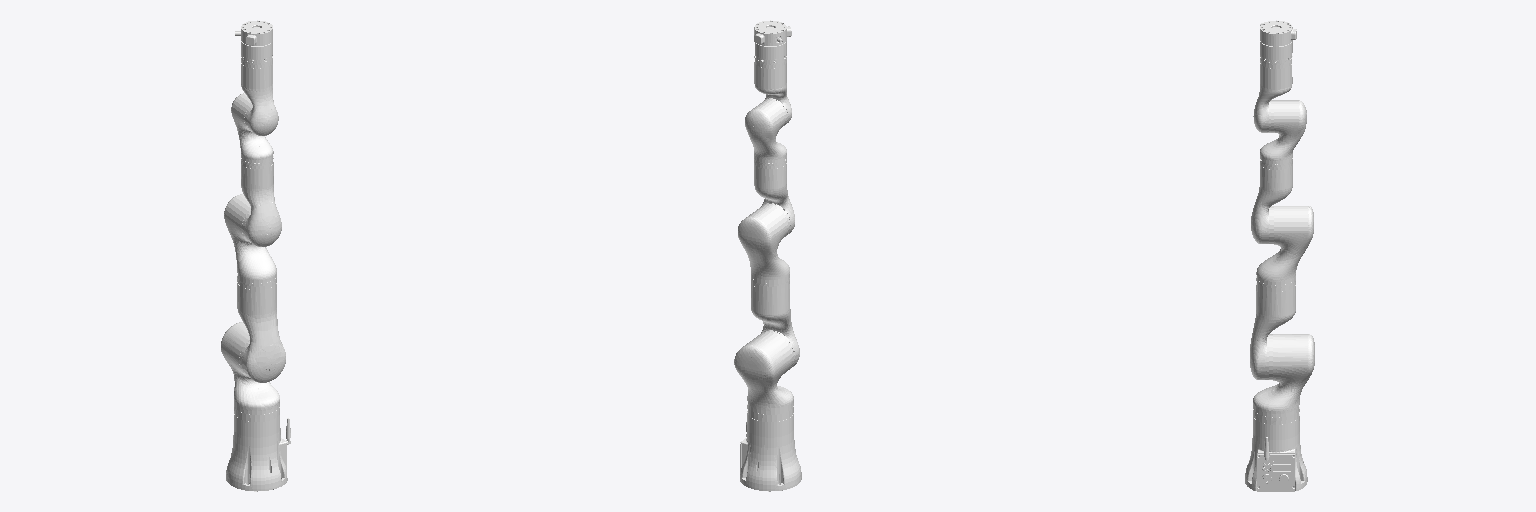
The robot description file, URDF, robot "rm_65_6f_description":
<?xml version="1.0" encoding="utf-8"?>
<!-- This URDF was automatically created by SolidWorks to URDF Exporter! Originally created by Stephen Brawner (brawner@gmail.com) 
     Commit Version: 1.6.0-1-g15f4949  Build Version: 1.6.7594.29634
     For more information, please see http://wiki.ros.org/sw_urdf_exporter -->
<robot
  name="rm_65_6f_description">
  <link
    name="base_link">
    <inertial>
      <origin
        xyz="-0.00043295 -3.5277E-05 0.059942"
        rpy="0 0 0" />
      <mass
        value="0.84105" />
      <inertia
        ixx="0.0017261"
        ixy="2.5273E-06"
        ixz="-3.6769E-05"
        iyy="0.0017099"
        iyz="1.6802E-06"
        izz="0.00090402" />
    </inertial>
    <visual>
      <origin
        xyz="0 0 0"
        rpy="0 0 0" />
      <geometry>
        <mesh
          filename="package://rm_description/meshes/RM65_6F/base_link.STL" />
      </geometry>
      <material
        name="">
        <color
          rgba="1 1 1 1" />
      </material>
    </visual>
    <collision>
      <origin
        xyz="0 0 0"
        rpy="0 0 0" />
      <geometry>
        <mesh
          filename="package://rm_description/meshes/RM65_6F/base_link.STL" />
      </geometry>
    </collision>
  </link>
  <link
    name="Link1">
    <inertial>
      <origin
        xyz="2.1376E-07 0.021108 -0.025186"
        rpy="0 0 0" />
      <mass
        value="0.59356" />
      <inertia
        ixx="0.0012661"
        ixy="-1.2951E-08"
        ixz="-9.8019E-09"
        iyy="0.0011817"
        iyz="-0.00021122"
        izz="0.00056135" />
    </inertial>
    <visual>
      <origin
        xyz="0 0 0"
        rpy="0 0 0" />
      <geometry>
        <mesh
          filename="package://rm_description/meshes/RM65_6F/Link1.STL" />
      </geometry>
      <material
        name="">
        <color
          rgba="1 1 1 1" />
      </material>
    </visual>
    <collision>
      <origin
        xyz="0 0 0"
        rpy="0 0 0" />
      <geometry>
        <mesh
          filename="package://rm_description/meshes/RM65_6F/Link1.STL" />
      </geometry>
    </collision>
  </link>
  <joint
    name="joint1"
    type="revolute">
    <origin
      xyz="0 0 0.2405"
      rpy="0 0 0" />
    <parent
      link="base_link" />
    <child
      link="Link1" />
    <axis
      xyz="0 0 1" />
    <limit
      lower="-3.107"
      upper="3.107"
      effort="100"
      velocity="1" />
  </joint>
  <link
    name="Link2">
    <inertial>
      <origin
        xyz="0.15226 6.0139E-07 -0.0062025"
        rpy="0 0 0" />
      <mass
        value="0.86418" />
      <inertia
        ixx="0.00063254"
        ixy="-5.979E-09"
        ixz="0.00042163"
        iyy="0.0020527"
        iyz="1.8401E-09"
        izz="0.0019528" />
    </inertial>
    <visual>
      <origin
        xyz="0 0 0"
        rpy="0 0 0" />
      <geometry>
        <mesh
          filename="package://rm_description/meshes/RM65_6F/Link2.STL" />
      </geometry>
      <material
        name="">
        <color
          rgba="1 1 1 1" />
      </material>
    </visual>
    <collision>
      <origin
        xyz="0 0 0"
        rpy="0 0 0" />
      <geometry>
        <mesh
          filename="package://rm_description/meshes/RM65_6F/Link2.STL" />
      </geometry>
    </collision>
  </link>
  <joint
    name="joint2"
    type="revolute">
    <origin
      xyz="0 0 0"
      rpy="1.5708 -1.5708 0" />
    <parent
      link="Link1" />
    <child
      link="Link2" />
    <axis
      xyz="0 0 1" />
    <limit
      lower="-2.269"
      upper="2.269"
      effort="100"
      velocity="1" />
  </joint>
  <link
    name="Link3">
    <inertial>
      <origin
        xyz="5.0421E-06 -0.059593 0.010569"
        rpy="0 0 0" />
      <mass
        value="0.28963" />
      <inertia
        ixx="0.00063737"
        ixy="-7.0522E-08"
        ixz="-3.8666E-08"
        iyy="0.00015648"
        iyz="-0.00014461"
        izz="0.00061418" />
    </inertial>
    <visual>
      <origin
        xyz="0 0 0"
        rpy="0 0 0" />
      <geometry>
        <mesh
          filename="package://rm_description/meshes/RM65_6F/Link3.STL" />
      </geometry>
      <material
        name="">
        <color
          rgba="1 1 1 1" />
      </material>
    </visual>
    <collision>
      <origin
        xyz="0 0 0"
        rpy="0 0 0" />
      <geometry>
        <mesh
          filename="package://rm_description/meshes/RM65_6F/Link3.STL" />
      </geometry>
    </collision>
  </link>
  <joint
    name="joint3"
    type="revolute">
    <origin
      xyz="0.256 0 0"
      rpy="0 0 1.5708" />
    <parent
      link="Link2" />
    <child
      link="Link3" />
    <axis
      xyz="0 0 1" />
    <limit
      lower="-2.356"
      upper="2.356"
      effort="100"
      velocity="1" />
  </joint>
  <link
    name="Link4">
    <inertial>
      <origin
        xyz="1.1466E-06 -0.018041 -0.021541"
        rpy="0 0 0" />
      <mass
        value="0.23941" />
      <inertia
        ixx="0.00028594"
        ixy="2.6611E-09"
        ixz="-1.8435E-09"
        iyy="0.00026273"
        iyz="4.4238E-05"
        izz="0.00011989" />
    </inertial>
    <visual>
      <origin
        xyz="0 0 0"
        rpy="0 0 0" />
      <geometry>
        <mesh
          filename="package://rm_description/meshes/RM65_6F/Link4.STL" />
      </geometry>
      <material
        name="">
        <color
          rgba="1 1 1 1" />
      </material>
    </visual>
    <collision>
      <origin
        xyz="0 0 0"
        rpy="0 0 0" />
      <geometry>
        <mesh
          filename="package://rm_description/meshes/RM65_6F/Link4.STL" />
      </geometry>
    </collision>
  </link>
  <joint
    name="joint4"
    type="revolute">
    <origin
      xyz="0 -0.21 0"
      rpy="1.5708 0 0" />
    <parent
      link="Link3" />
    <child
      link="Link4" />
    <axis
      xyz="0 0 1" />
    <limit
      lower="-3.107"
      upper="3.107"
      effort="100"
      velocity="1" />
  </joint>
  <link
    name="Link5">
    <inertial>
      <origin
        xyz="3.4542E-06 -0.059382 0.0073678"
        rpy="0 0 0" />
      <mass
        value="0.21879" />
      <inertia
        ixx="0.00035053"
        ixy="-3.1667E-08"
        ixz="-1.7442E-08"
        iyy="0.00010492"
        iyz="-7.824E-05"
        izz="0.00033447" />
    </inertial>
    <visual>
      <origin
        xyz="0 0 0"
        rpy="0 0 0" />
      <geometry>
        <mesh
          filename="package://rm_description/meshes/RM65_6F/Link5.STL" />
      </geometry>
      <material
        name="">
        <color
          rgba="1 1 1 1" />
      </material>
    </visual>
    <collision>
      <origin
        xyz="0 0 0"
        rpy="0 0 0" />
      <geometry>
        <mesh
          filename="package://rm_description/meshes/RM65_6F/Link5.STL" />
      </geometry>
    </collision>
  </link>
  <joint
    name="joint5"
    type="revolute">
    <origin
      xyz="0 0 0"
      rpy="-1.5708 0 0" />
    <parent
      link="Link4" />
    <child
      link="Link5" />
    <axis
      xyz="0 0 1" />
    <limit
      lower="-2.234"
      upper="2.234"
      effort="100"
      velocity="1" />
  </joint>
  <link
    name="Link6">
    <inertial>
      <origin
        xyz="0.00032231 -0.00017819 -0.028676"
        rpy="0 0 0" />
      <mass
        value="0.14433" />
      <inertia
        ixx="3.6119E-05"
        ixy="-1.3242E-06"
        ixz="-3.2733E-08"
        iyy="3.4626E-05"
        iyz="7.6661E-09"
        izz="6.1463E-05" />
    </inertial>
    <visual>
      <origin
        xyz="0 0 0"
        rpy="0 0 0" />
      <geometry>
        <mesh
          filename="package://rm_description/meshes/RM65_6F/Link6.STL" />
      </geometry>
      <material
        name="">
        <color
          rgba="1 1 1 1" />
      </material>
    </visual>
    <collision>
      <origin
        xyz="0 0 0"
        rpy="0 0 0" />
      <geometry>
        <mesh
          filename="package://rm_description/meshes/RM65_6F/Link6.STL" />
      </geometry>
    </collision>
  </link>
  <joint
    name="joint6"
    type="revolute">
    <origin
      xyz="0 -0.1725 0"
      rpy="1.5708 0 0" />
    <parent
      link="Link5" />
    <child
      link="Link6" />
    <axis
      xyz="0 0 1" />
    <limit
      lower="-6.283"
      upper="6.283"
      effort="100"
      velocity="1" />
  </joint>
</robot>

--- What the picture shows (computed from the rendered views, not written in the file) ---
Views: 3 orthographic renders of the robot side by side, from view 1: azimuth 30°, elevation 25°; view 2: azimuth 150°, elevation 25°; view 3: azimuth 270°, elevation 25°.
Model rm_65_6f_description with 7 links and 6 joints (6 revolute), rooted at base_link, posed every joint at zero.
Visible links, largest first — view 1: Link2, base_link, Link3, Link1, Link5, Link4, Link6; view 2: Link2, base_link, Link1, Link4, Link3, Link6, Link5; view 3: Link2, base_link, Link1, Link4, Link3, Link5, Link6.
Link boxes in pixels (left/top/right/bottom): Link2: left=224, top=194, right=285, bottom=382; base_link: left=226, top=409, right=290, bottom=491; Link3: left=241, top=158, right=281, bottom=246; Link1: left=221, top=322, right=279, bottom=416; Link5: left=241, top=59, right=278, bottom=135; Link4: left=231, top=93, right=273, bottom=164; Link6: left=235, top=20, right=272, bottom=63; Link2: left=738, top=203, right=799, bottom=368; base_link: left=740, top=407, right=801, bottom=491; Link1: left=734, top=330, right=794, bottom=416; Link4: left=745, top=98, right=787, bottom=164; Link3: left=754, top=159, right=794, bottom=236; Link6: left=754, top=20, right=791, bottom=63; Link5: left=754, top=57, right=791, bottom=125; Link2: left=1250, top=206, right=1313, bottom=379; base_link: left=1245, top=411, right=1307, bottom=491; Link1: left=1253, top=334, right=1314, bottom=419; Link4: left=1260, top=100, right=1306, bottom=165; Link3: left=1251, top=160, right=1292, bottom=243; Link5: left=1253, top=59, right=1292, bottom=132; Link6: left=1260, top=20, right=1296, bottom=63.
Size in the robot's own frame: 0.1143 by 0.123 by 0.879 metres.
7 mesh visuals loaded from 7 distinct referenced files (7 binary STL).
